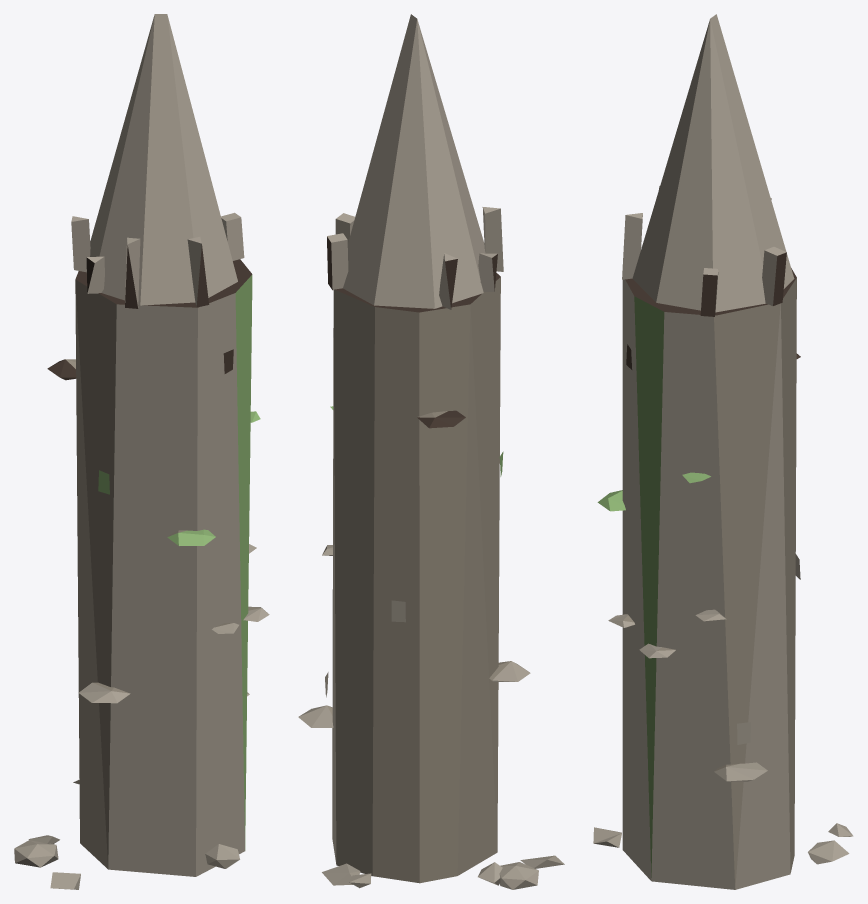
File: tower_unified.glb
3 renders of one model, left to right at view 1: azimuth 30°, elevation 25°; view 2: azimuth 150°, elevation 25°; view 3: azimuth 270°, elevation 25°, orthographic.
Visible parts, largest first — view 1: Tower; view 2: Tower; view 3: Tower.
Part boxes in pixels (<box>): Tower: <box>14,14,269,889</box>; Tower: <box>298,14,564,889</box>; Tower: <box>593,14,853,889</box>.
Bounding box in the file's own units: 9.32 × 32.31 × 9.
